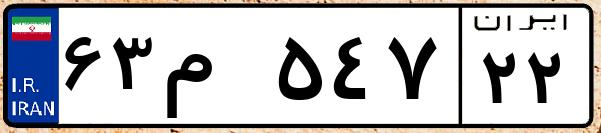2: (475, 38, 525, 113), (525, 38, 570, 115)
3: (110, 28, 158, 98)
4: (330, 28, 385, 110)
5: (270, 28, 330, 110)
6: (57, 26, 110, 100)
7: (385, 28, 445, 110)
م: (158, 20, 270, 120)
